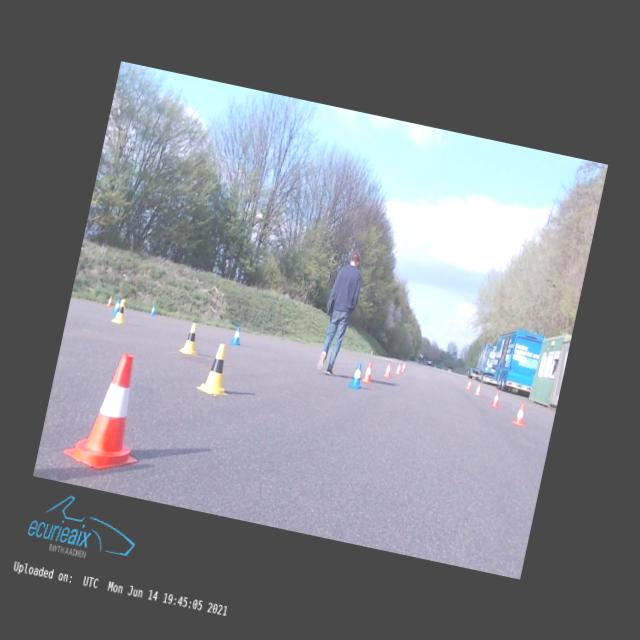blue_cone: (348, 362, 366, 389), (230, 326, 243, 346), (111, 298, 120, 314), (149, 306, 156, 316)
orange_cone: (61, 344, 158, 476), (511, 402, 528, 426), (361, 361, 374, 383), (490, 390, 501, 408), (383, 362, 393, 378), (394, 362, 402, 374), (474, 384, 481, 395), (106, 296, 113, 306), (400, 363, 406, 372), (466, 381, 472, 389)
yellow_cone: (195, 341, 238, 398), (178, 320, 204, 356), (110, 298, 128, 324), (120, 297, 127, 310)
